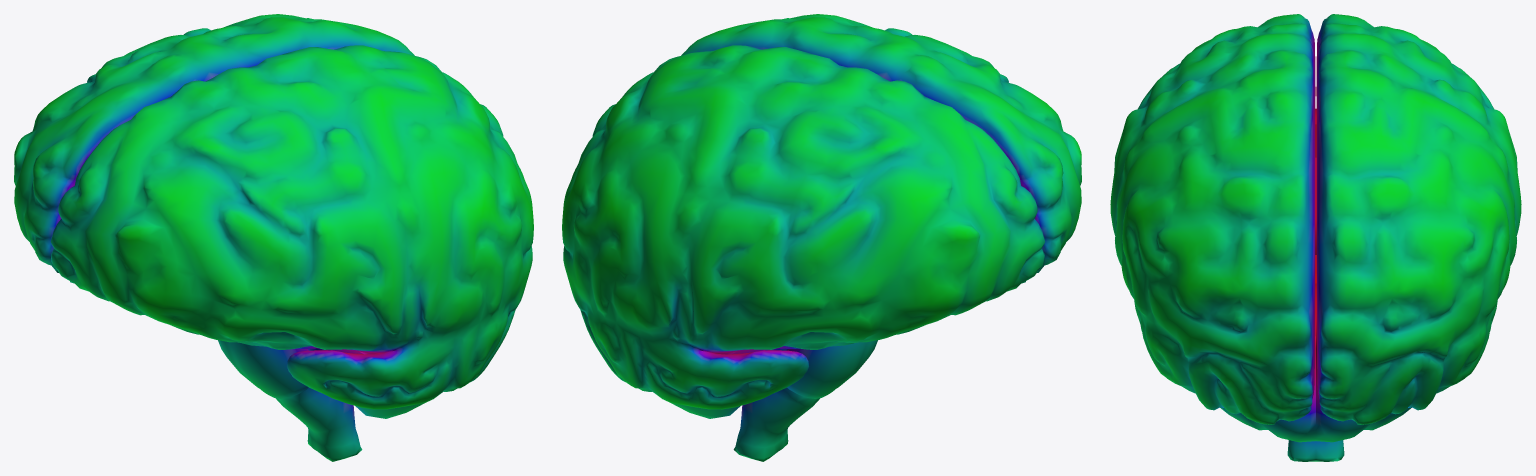
The model's file is rgbrain.glb.
The picture shows the model from 3 angles, left to right: view 1: azimuth 30°, elevation 25°; view 2: azimuth 150°, elevation 25°; view 3: azimuth 270°, elevation 25°; orthographic projection. The views are drawn at different scales.
Visible parts, largest first — view 1: geo2; view 2: geo2; view 3: geo2.
Part boxes in pixels (bbox=[...]): geo2: bbox=[14, 14, 533, 461]; geo2: bbox=[562, 14, 1081, 461]; geo2: bbox=[1110, 14, 1521, 461].
Bounding box in the file's own units: 0.159 × 0.1397 × 0.1384.
